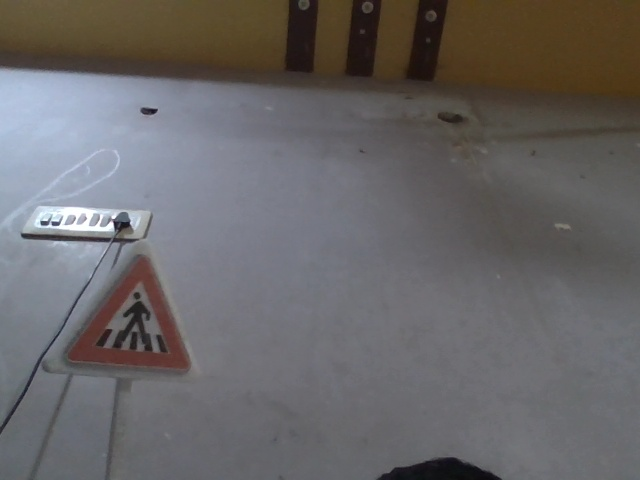crossing: (53, 243, 197, 369)
